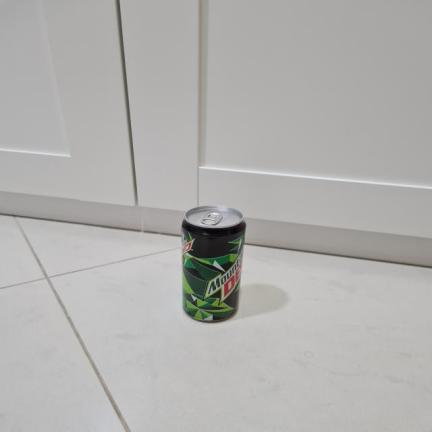can: (182, 206, 246, 321)
